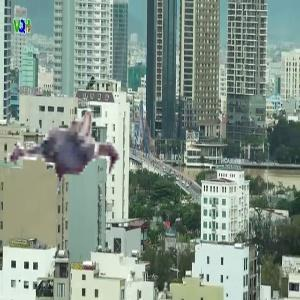drone: (2, 86, 142, 226)
